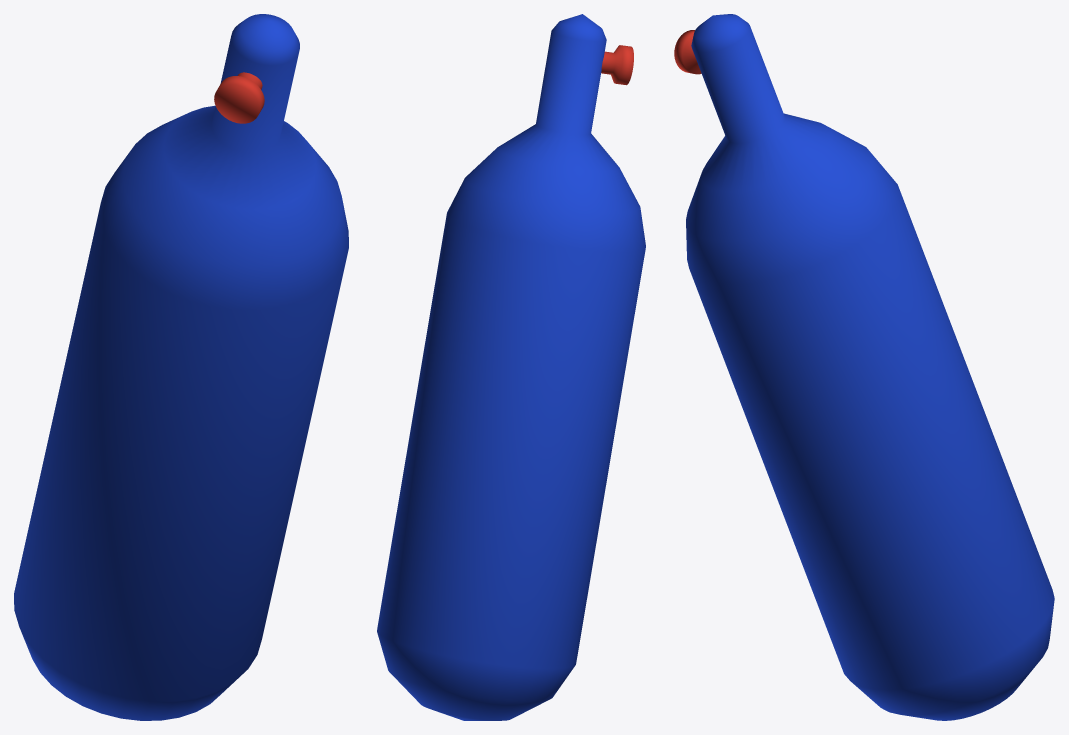
The model's file is SM_N2OBottle.fbx.
The picture shows the model from 3 angles, left to right: view 1: azimuth 30°, elevation 25°; view 2: azimuth 150°, elevation 25°; view 3: azimuth 270°, elevation 25°; orthographic projection. The views are drawn at different scales.
Visible parts, largest first — view 1: Cube; view 2: Cube; view 3: Cube.
Part boxes in pixels (box(x1,y1,x2,y2)): Cube: box(14, 14, 348, 720); Cube: box(377, 14, 645, 720); Cube: box(674, 14, 1054, 720).
Bounding box in the file's own units: 61.47 × 209 × 104.
